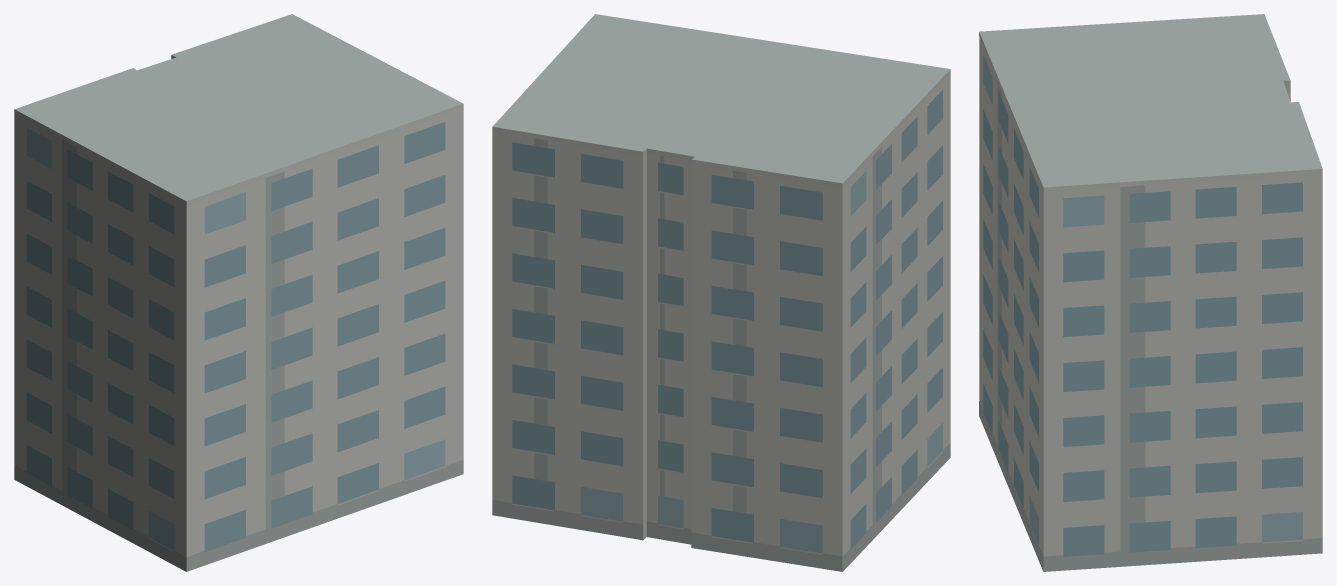
The model's file is survey-upis-32561196.glb.
3 views of the same model, side by side, from view 1: azimuth 30°, elevation 25°; view 2: azimuth 150°, elevation 25°; view 3: azimuth 270°, elevation 25° (orthographic). The views are drawn at different scales.
Visible parts, largest first — view 1: survey-upis-32561196.tmp; view 2: survey-upis-32561196.tmp; view 3: survey-upis-32561196.tmp.
Part boxes in pixels (<box>): survey-upis-32561196.tmp: <box>14,14,463,571</box>; survey-upis-32561196.tmp: <box>492,14,950,571</box>; survey-upis-32561196.tmp: <box>979,14,1322,571</box>.
Bounding box in the file's own units: 19.29 × 19.93 × 16.15.
